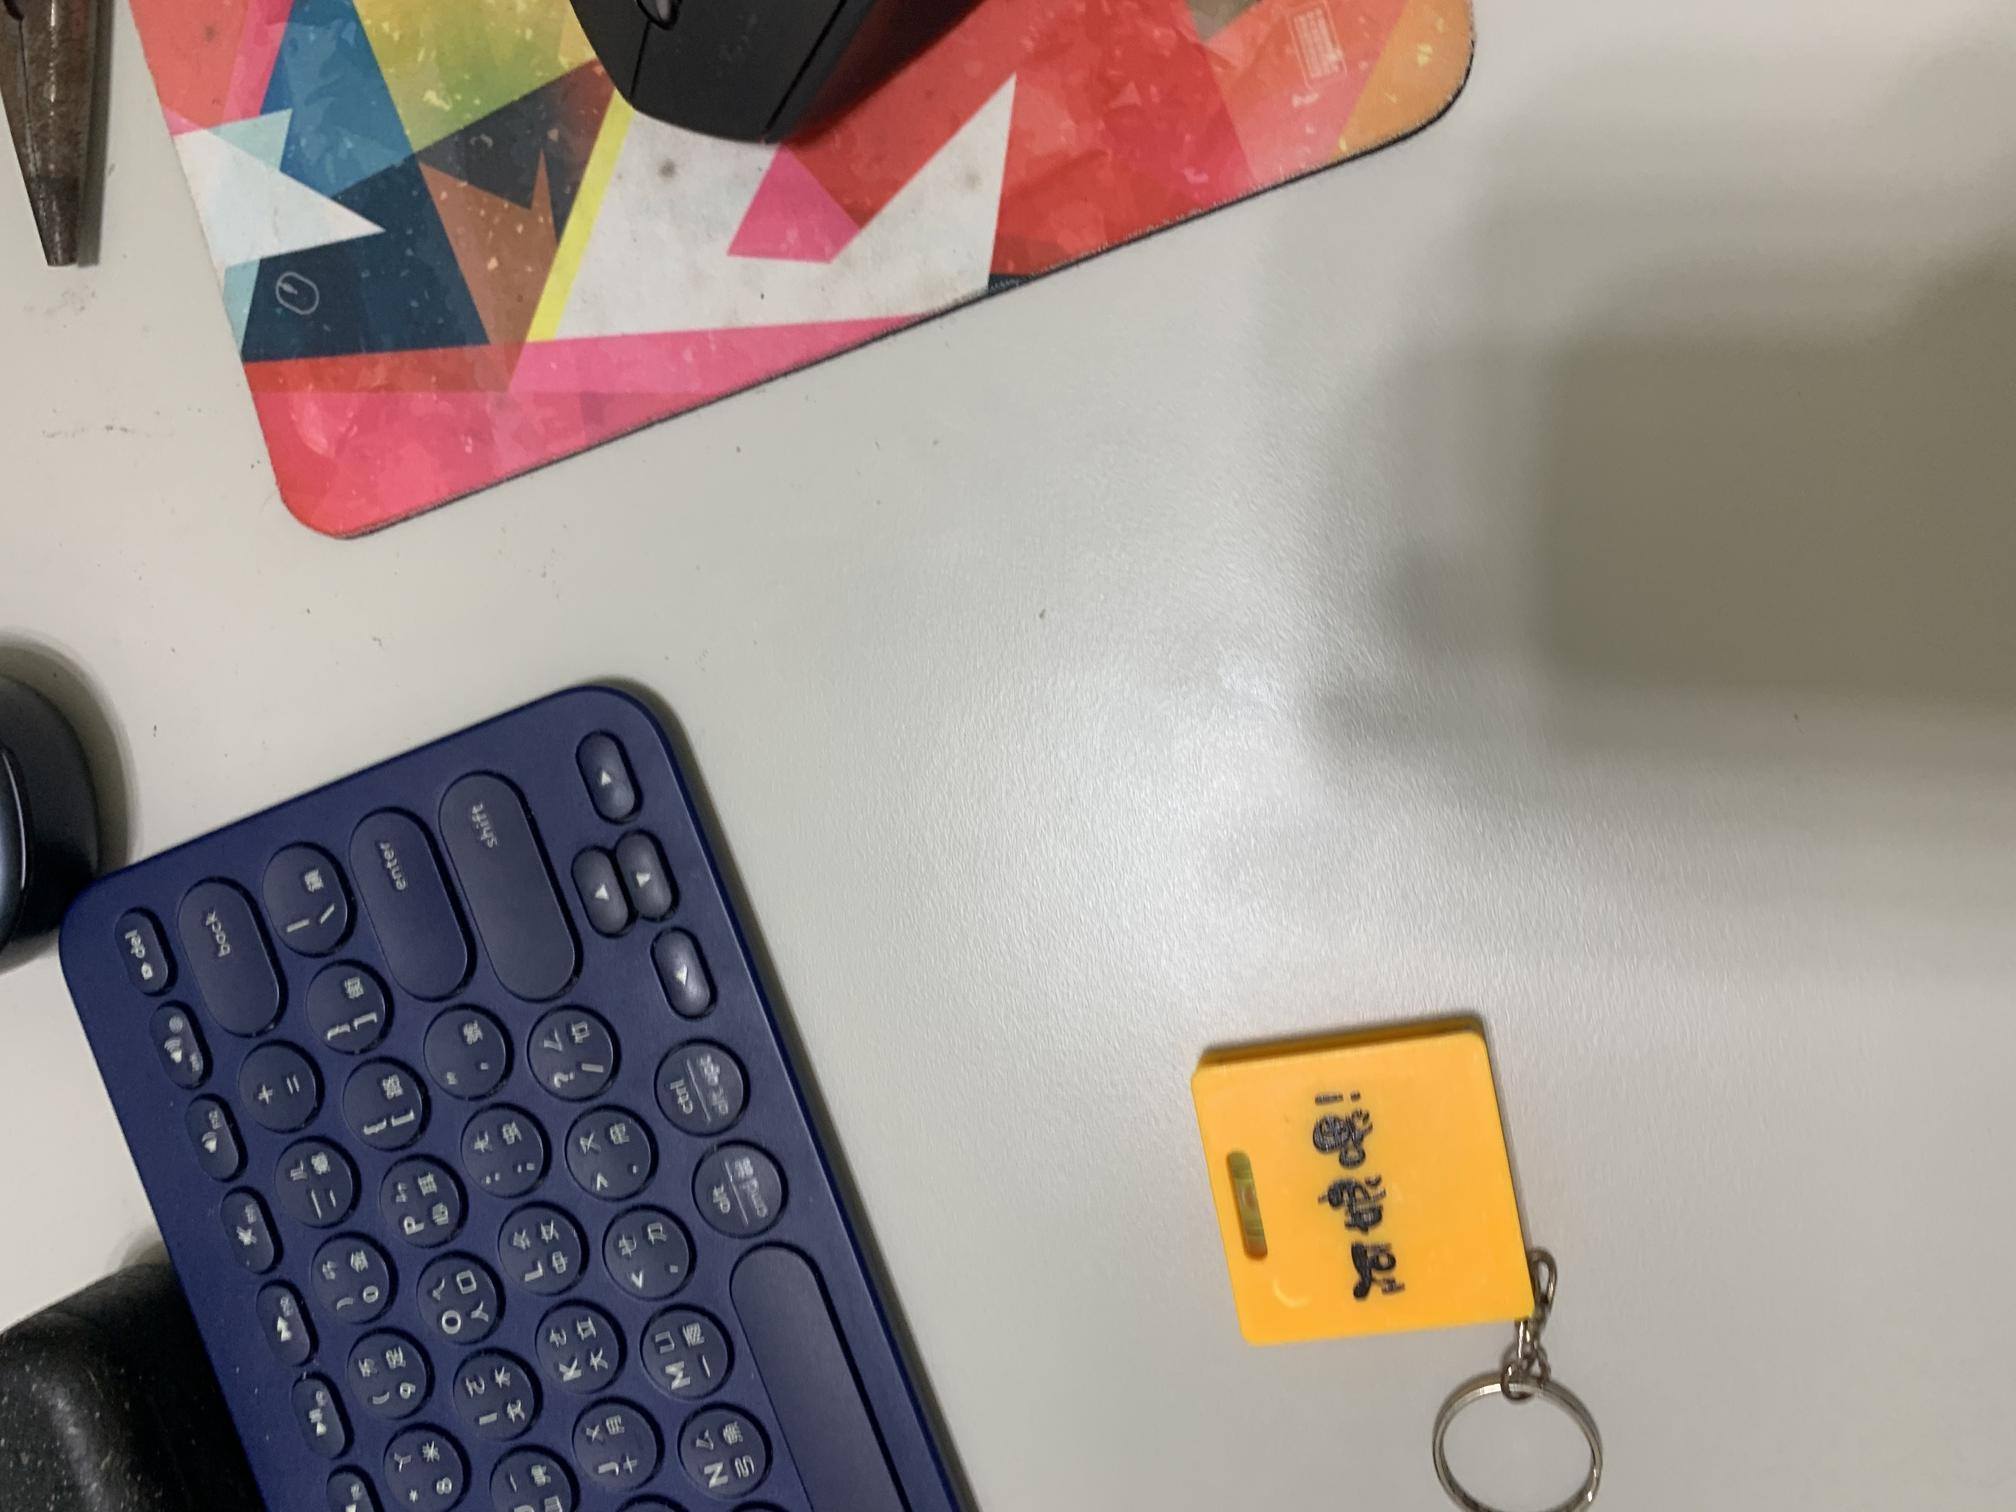Laio: (1175, 1023, 1535, 1346)
